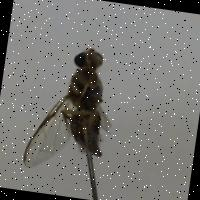Oriental-fruit-fly: (14, 34, 126, 188)
